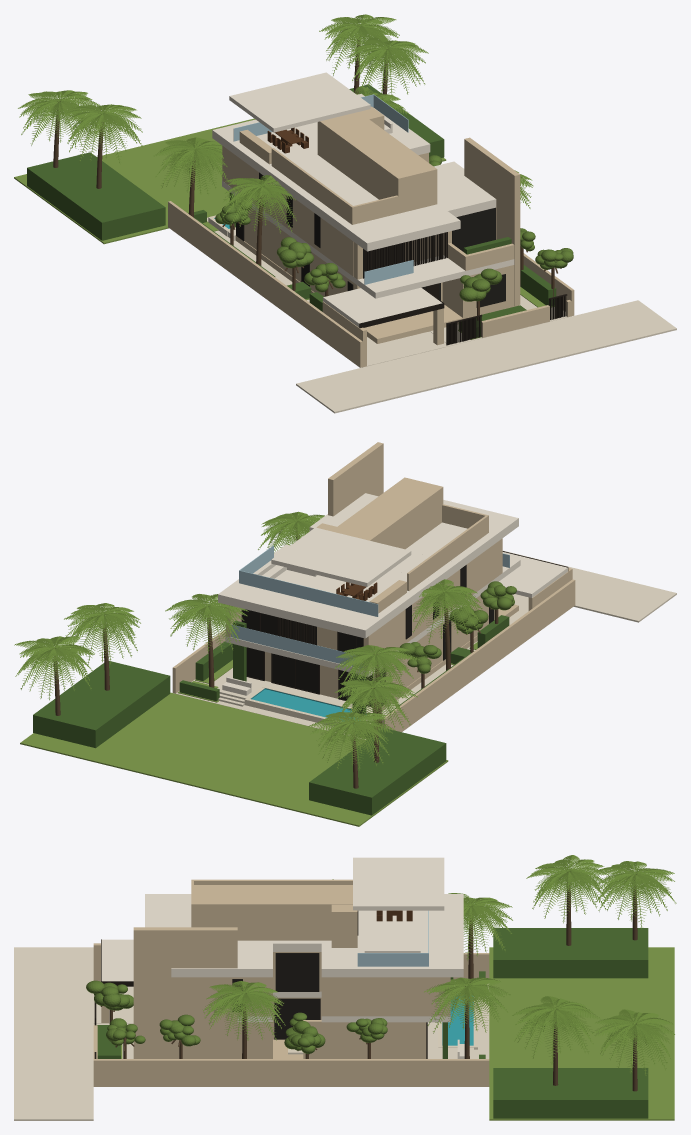
The model's file is villa_open.glb.
The picture shows the model from 3 angles, top to bottom: view 1: azimuth 30°, elevation 25°; view 2: azimuth 150°, elevation 25°; view 3: azimuth 270°, elevation 25°; orthographic projection. The views are drawn at different scales.
Visible parts, largest first — view 1: GROUND_street_verge, RF_core, HEDGE_context_rear_left, CONTEXT_lawn_beyond_plot (NOT PLOT), WALL_side_left, RF_canopy, ROOF_f, STONE_FIN (render-sourced, not on plan), ROOF_r, CONTEXT_palm_1_fronds, CONTEXT_palm_0_fronds, CARPORT_canopy (render-sourced, not on plan) (+26 smaller); view 2: CONTEXT_lawn_beyond_plot (NOT PLOT), HEDGE_context_rear_right, HEDGE_context_rear_left, ROOF_r, WALL_side_left, RF_canopy, RF_core, GROUND_street_verge, CONTEXT_palm_2_fronds, CONTEXT_palm_3_fronds, CONTEXT_palm_1_fronds, STONE_FIN (render-sourced, not on plan) (+27 smaller); view 3: CONTEXT_lawn_beyond_plot (NOT PLOT), GROUND_street_verge, STONE_FIN (render-sourced, not on plan), WALL_side_right, HEDGE_context_rear_left, HEDGE_context_rear_right, RF_core, ROOF_r, RF_canopy, FF_rear, CONTEXT_palm_3_fronds, TREE_9_palm_fronds (+26 smaller).
Part boxes in pixels (bbox=[...]): GROUND_street_verge: bbox=[296, 300, 676, 413]; RF_core: bbox=[317, 112, 437, 213]; HEDGE_context_rear_left: bbox=[27, 152, 165, 240]; CONTEXT_lawn_beyond_plot (NOT PLOT): bbox=[14, 118, 446, 244]; WALL_side_left: bbox=[168, 201, 362, 367]; RF_canopy: bbox=[229, 72, 370, 132]; ROOF_f: bbox=[305, 185, 460, 251]; STONE_FIN (render-sourced, not on plan): bbox=[464, 137, 520, 305]; ROOF_r: bbox=[212, 93, 430, 186]; CONTEXT_palm_1_fronds: bbox=[347, 37, 428, 95]; CONTEXT_palm_0_fronds: bbox=[63, 104, 142, 164]; CARPORT_canopy (render-sourced, not on plan): bbox=[323, 287, 442, 327]; CONTEXT_lawn_beyond_plot (NOT PLOT): bbox=[20, 692, 448, 826]; HEDGE_context_rear_right: bbox=[33, 661, 170, 748]; HEDGE_context_rear_left: bbox=[309, 728, 446, 815]; ROOF_r: bbox=[218, 544, 433, 638]; WALL_side_left: bbox=[382, 579, 575, 732]; RF_canopy: bbox=[271, 527, 411, 586]; RF_core: bbox=[331, 477, 443, 549]; GROUND_street_verge: bbox=[302, 536, 676, 622]; CONTEXT_palm_2_fronds: bbox=[308, 712, 395, 770]; CONTEXT_palm_3_fronds: bbox=[14, 636, 94, 700]; CONTEXT_palm_1_fronds: bbox=[64, 603, 140, 664]; STONE_FIN (render-sourced, not on plan): bbox=[328, 442, 383, 516]; CONTEXT_lawn_beyond_plot (NOT PLOT): bbox=[489, 947, 674, 1120]; GROUND_street_verge: bbox=[14, 947, 93, 1120]; STONE_FIN (render-sourced, not on plan): bbox=[133, 927, 237, 1058]; WALL_side_right: bbox=[93, 1059, 489, 1086]; HEDGE_context_rear_left: bbox=[493, 928, 648, 978]; HEDGE_context_rear_right: bbox=[493, 1068, 648, 1118]; RF_core: bbox=[191, 885, 352, 940]; ROOF_r: bbox=[321, 894, 463, 977]; RF_canopy: bbox=[353, 857, 444, 910]; FF_rear: bbox=[321, 977, 426, 1016]; CONTEXT_palm_3_fronds: bbox=[592, 1009, 674, 1075]; TREE_9_palm_fronds: bbox=[203, 981, 285, 1040].
Size of what is drawn, in the model's own units: 33.92 by 13.05 by 50.05.
